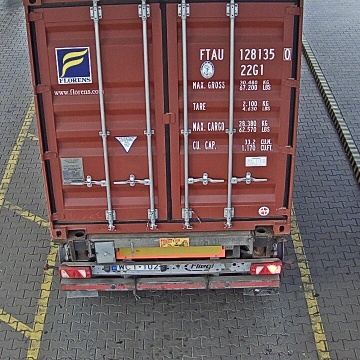serial_id: (200, 48, 291, 60)
